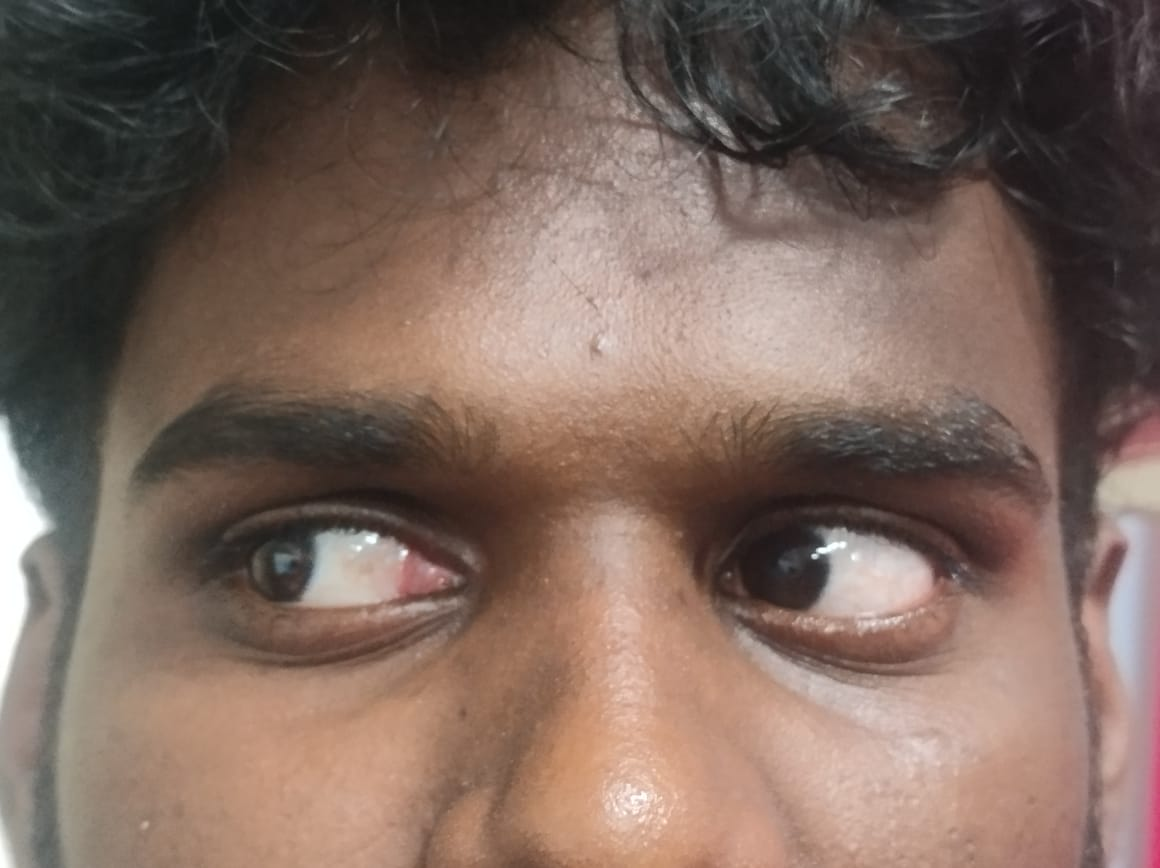EYE RIGHT: (607, 339, 1091, 765), (89, 338, 559, 746)
